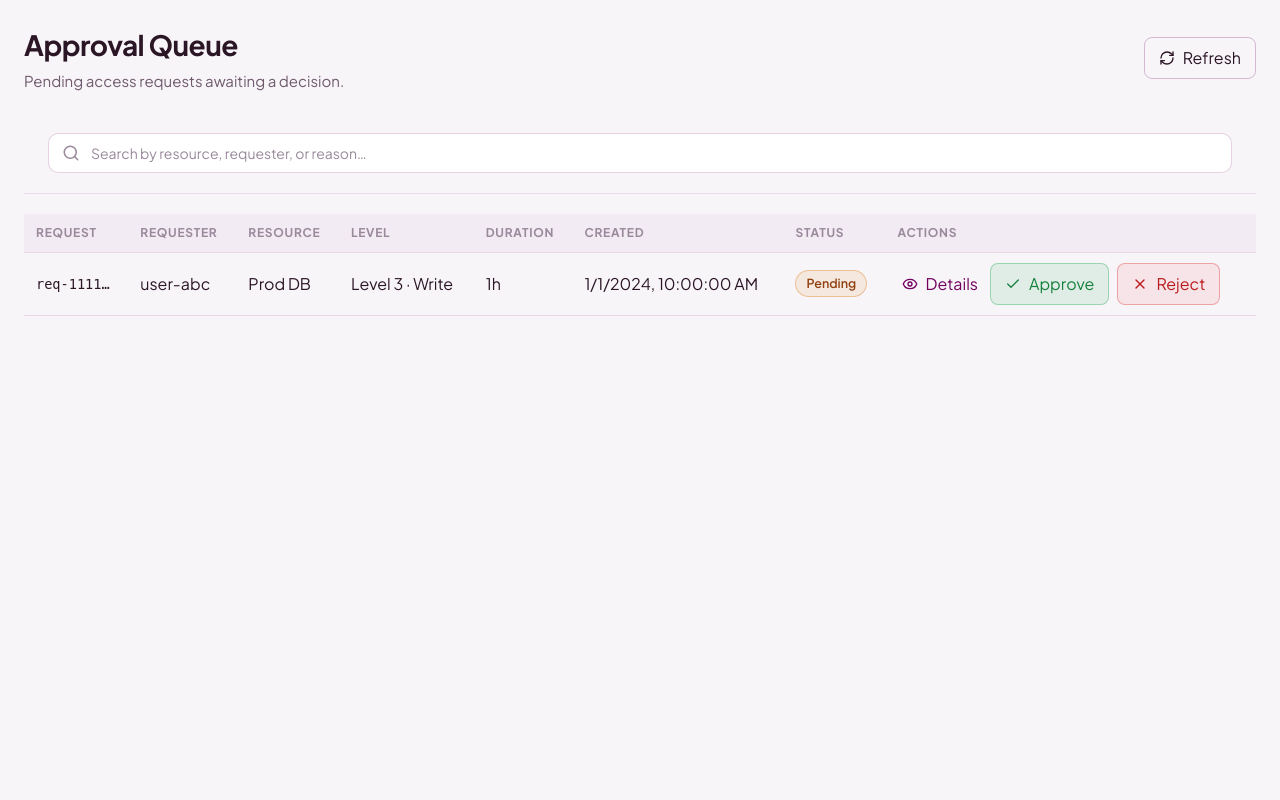
Test case: ApprovalQueue › rejects with a reason and removes the row
Click the button "Reject": (1169, 284) left=1118, top=262, right=1220, bottom=304
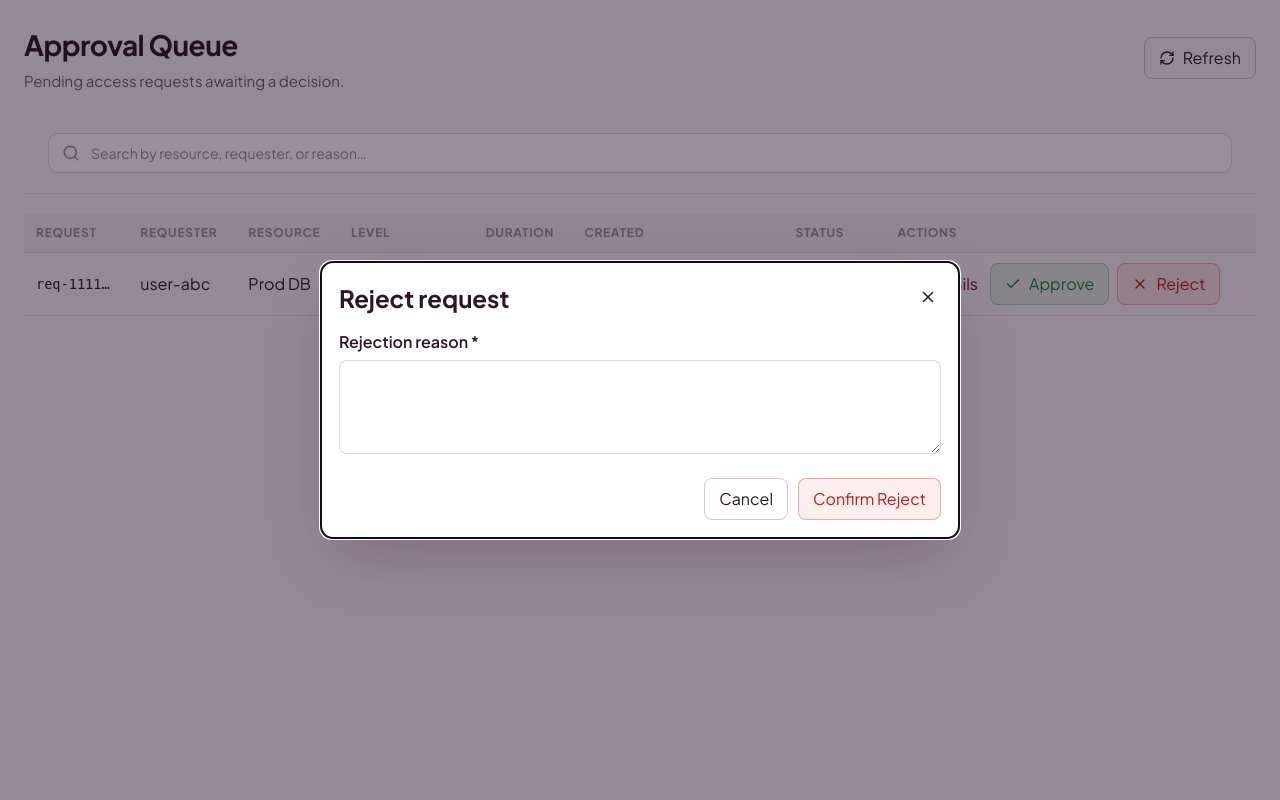
In the text box labelled "Rejection reason *": (640, 407) left=339, top=360, right=941, bottom=454, type "Not justified"
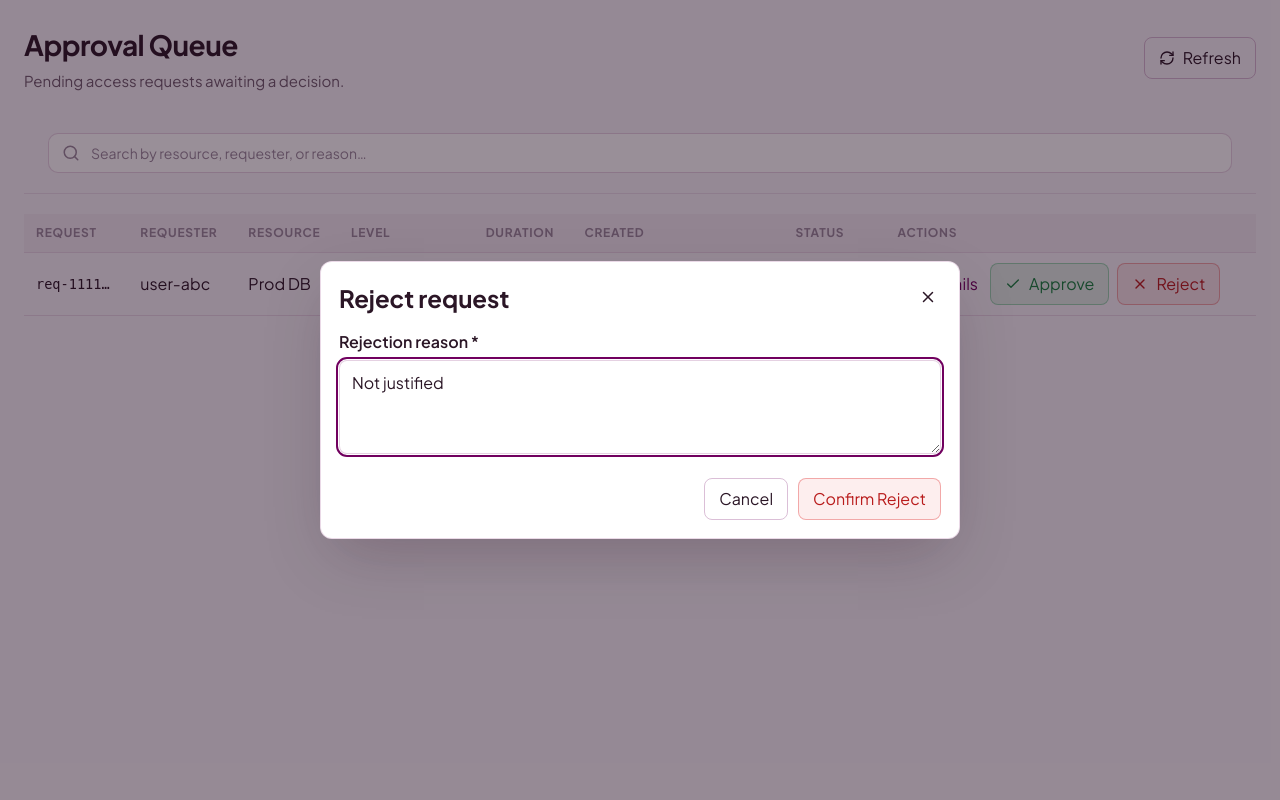
Click the button "Confirm Reject": (870, 499) left=798, top=478, right=941, bottom=520
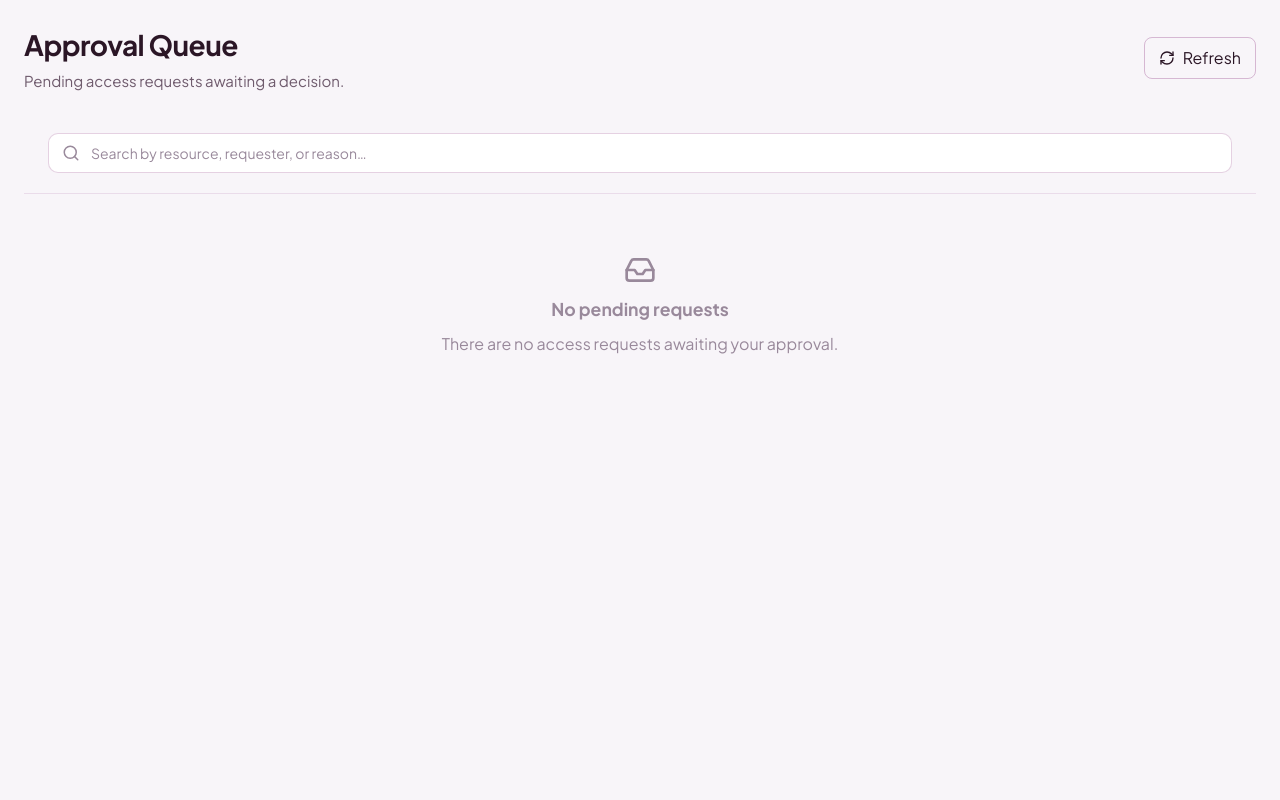
Expected: the text "user-abc" is gone
